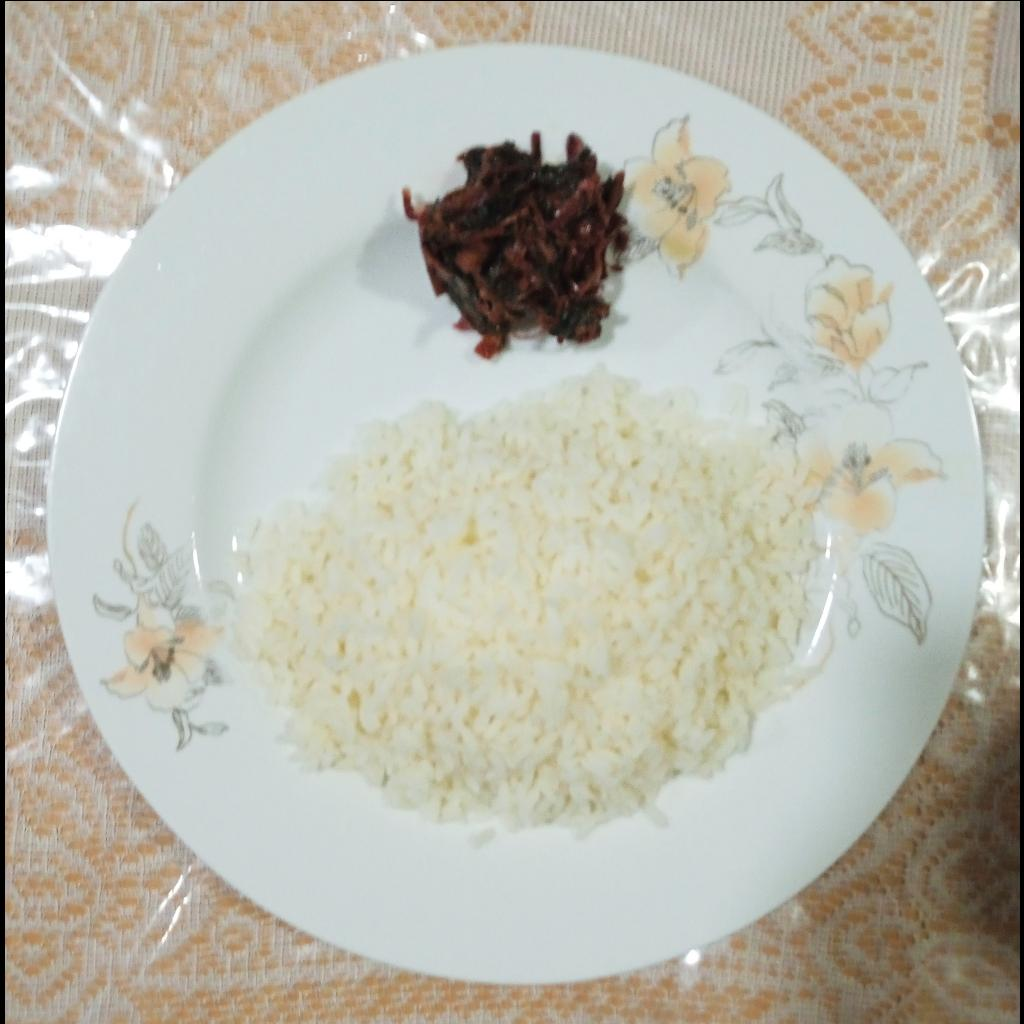rice: (234, 359, 835, 837)
shak: (399, 128, 623, 357)
